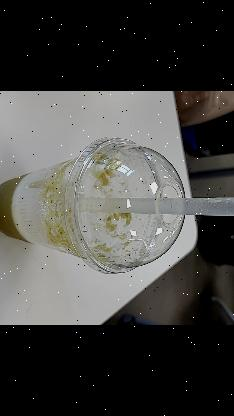Others: (0, 134, 188, 275), (61, 134, 187, 280), (88, 189, 234, 225)
